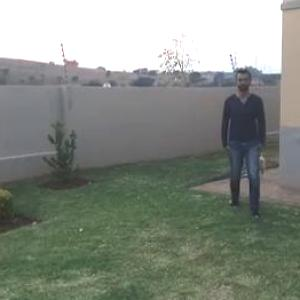follow: (224, 64, 272, 219)
